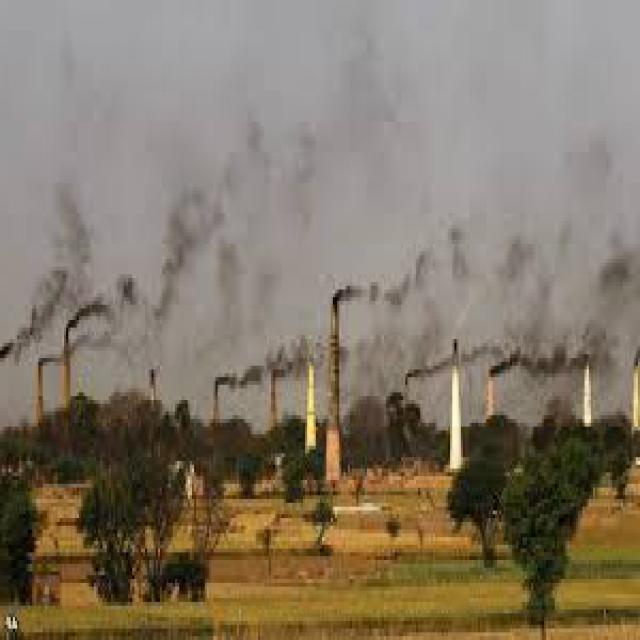Smoke: (17, 206, 92, 354), (566, 246, 636, 372), (150, 210, 195, 332), (188, 349, 324, 386), (472, 299, 526, 384), (309, 250, 363, 315)
